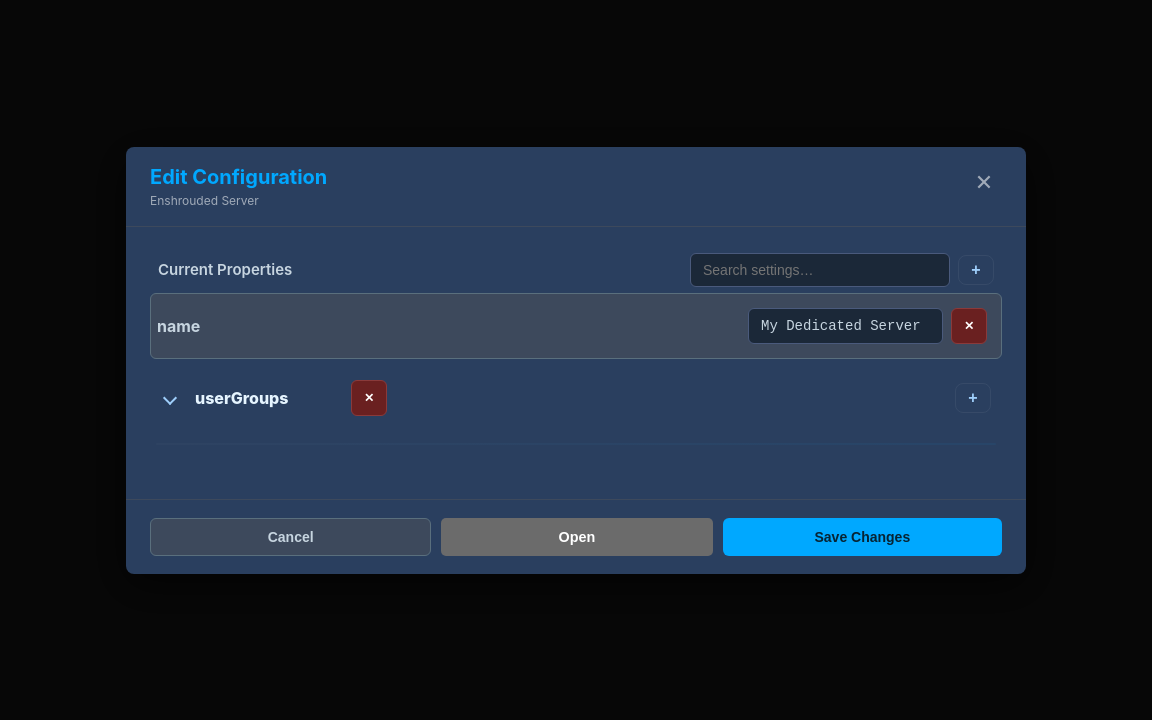
Scenario: ConfigEditor › filters the property tree by key and auto-expands nested matches
Check: the text "name" is shown, box 157,316 -> 200,336
Step 1. Type "canKickBan" into the search field labelled "Search settings" → (820, 270), box 690,252 -> 950,286
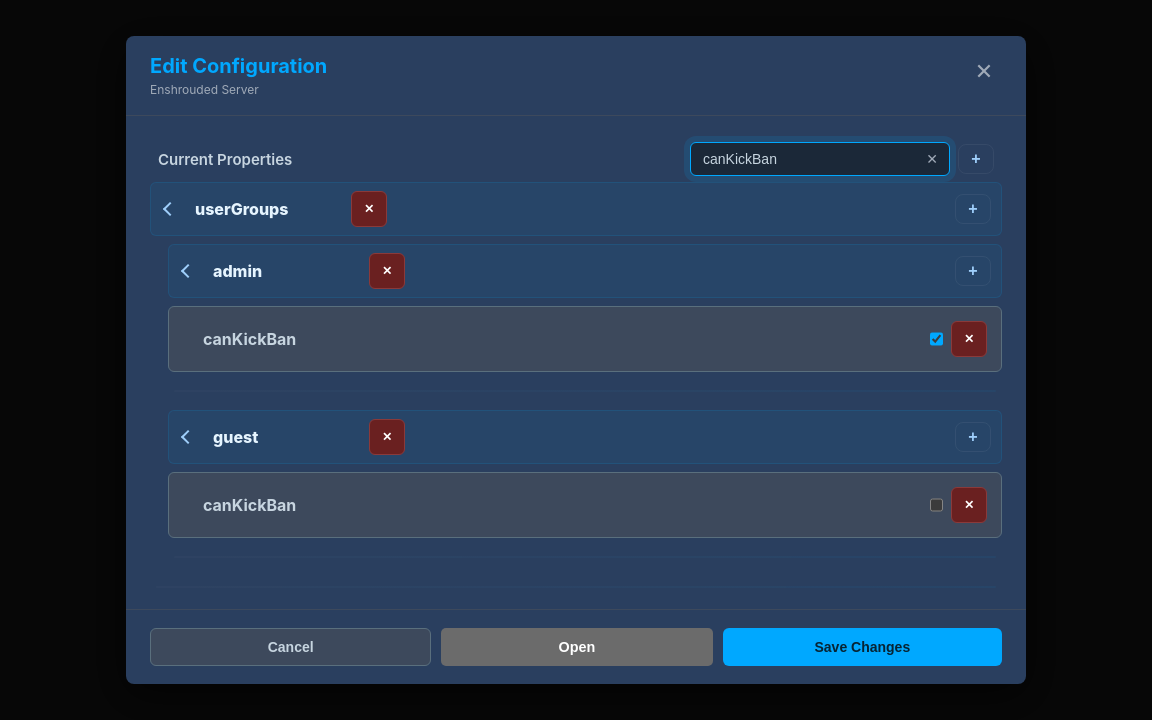
Check: the text "userGroups" is shown, box 195,199 -> 288,219
Check: the text "name" is gone
